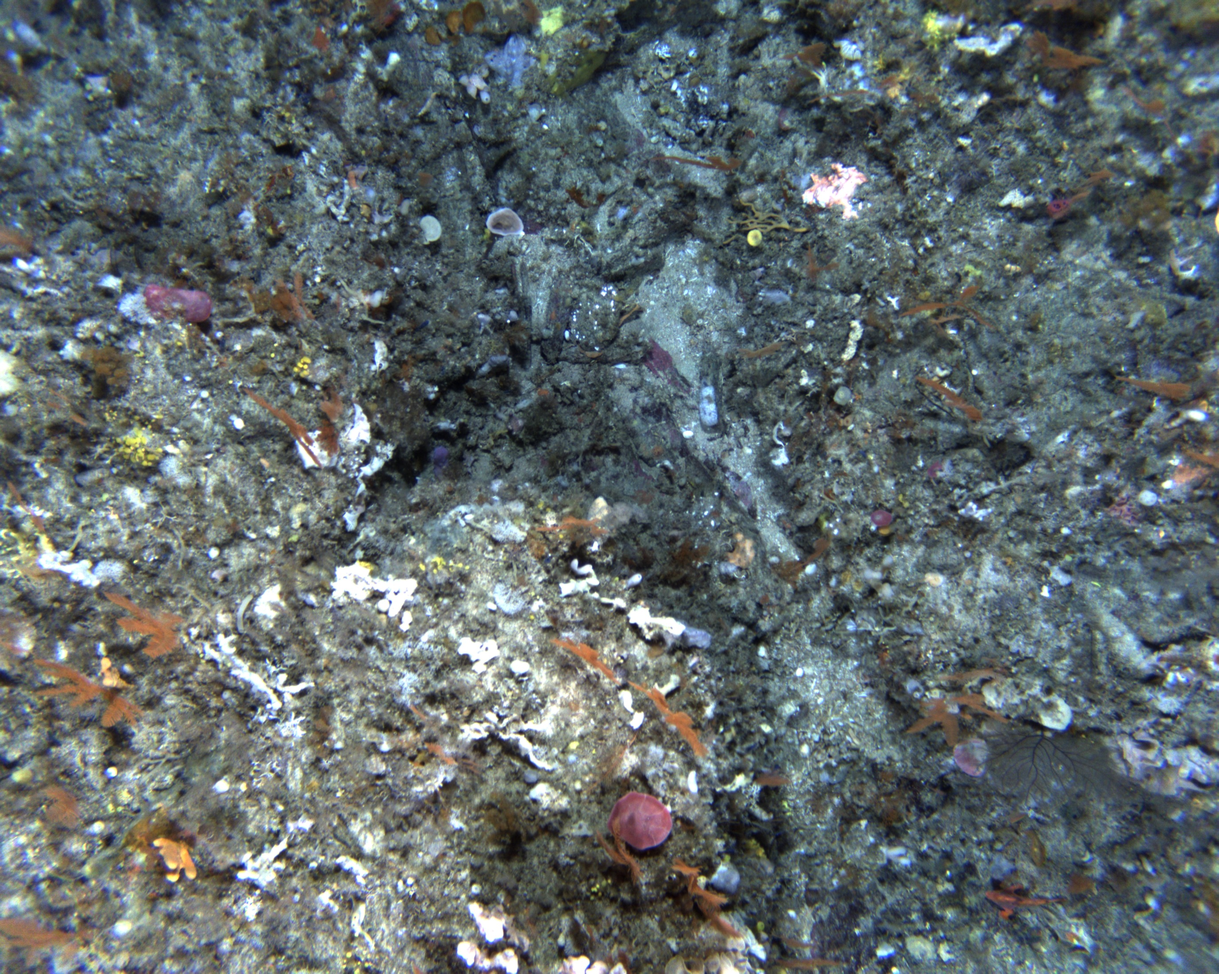Brachionichthyidae: (983, 881, 1070, 920)
